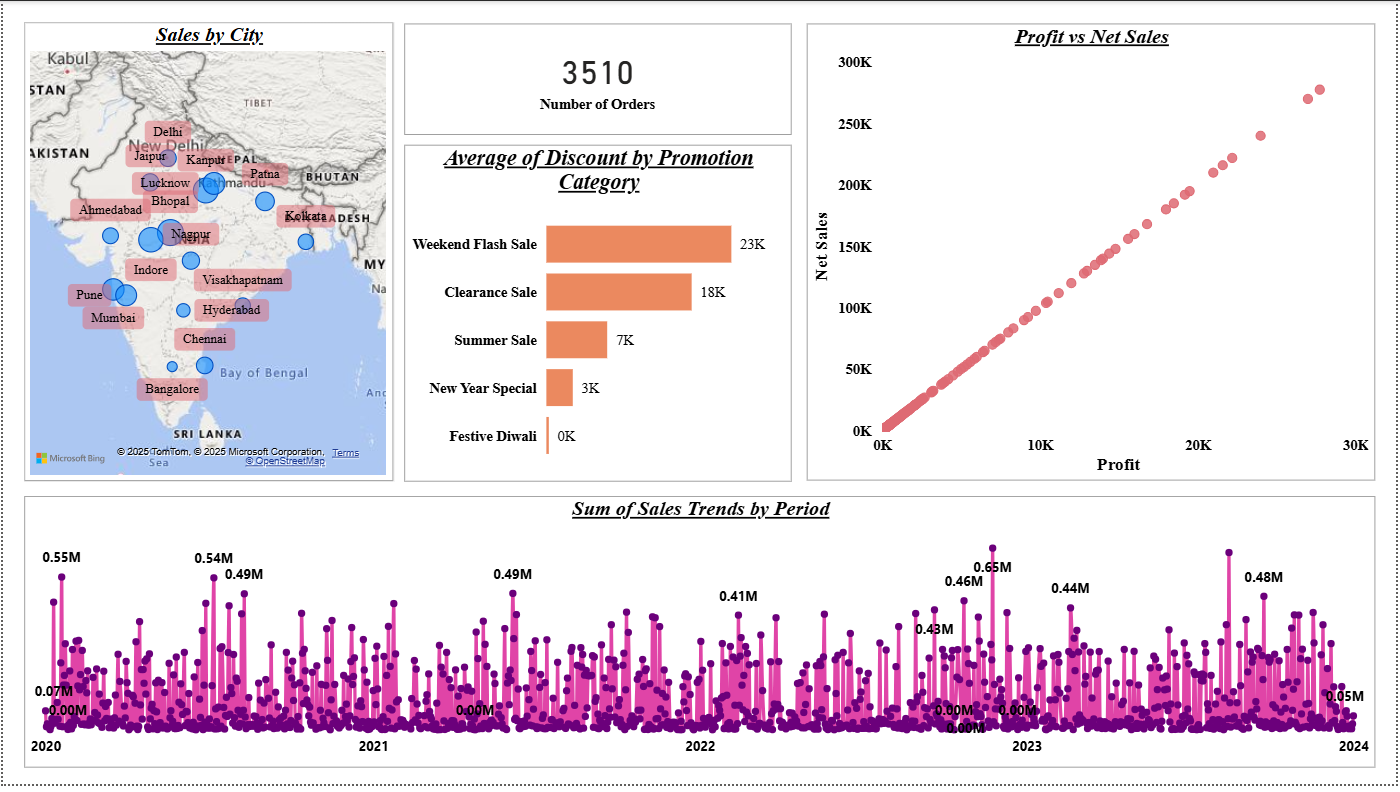

What the dashboard file says about the page in this screenshot:
{"tool":"powerbi","page":{"name":"Overview","canvas":[1280,720],"ordinal":0},"visuals":[{"type":"lineChart","title":"Sum of Sales Trends by Period","fields":{"Y":["Sum(Fact Table.Net Sales  )"],"Category":["Fact Table.Date (dd/mm/yyyy).Variation.Date Hierarchy.Year"]},"box":[19.2,454.7,1241.8,249.6],"z":0},{"type":"scatterChart","title":"Profit vs Net Sales","fields":{"X":["Fact Table.Profit"],"Y":["Fact Table.Net Sales  "]},"box":[738.1,20.9,522.5,420.2],"z":1000},{"type":"barChart","title":"Average of Discount by Promotion Category","fields":{"Y":["Avg(Fact Table.Discount)"],"Category":["Dim Promotion.Promotion Name"]},"box":[368.4,131.8,356.1,309.3],"z":2000},{"type":"map","title":"Sales by City","fields":{"Category":["Dim Customers.City"],"Size":["Sum(Fact Table.Net Sales  )"]},"box":[19.7,19.7,338.9,421.4],"z":3000},{"type":"card","fields":{"Values":["Count(Fact Table.Order ID)"]},"box":[368.4,20.9,356.1,102.3],"z":4000}]}

Visuals, with their boxes in screenshot pixels (x1, y1, x2, y2), scaled from the page's 1280x720 canvas onto the 1400x792 screenshot:
"Sum of Sales Trends by Period" lineChart: bbox=(21, 500, 1379, 775)
"Profit vs Net Sales" scatterChart: bbox=(807, 23, 1379, 485)
"Average of Discount by Promotion Category" barChart: bbox=(403, 145, 792, 485)
"Sales by City" map: bbox=(22, 22, 392, 485)
card - Count(Fact Table.Order ID): bbox=(403, 23, 792, 136)
